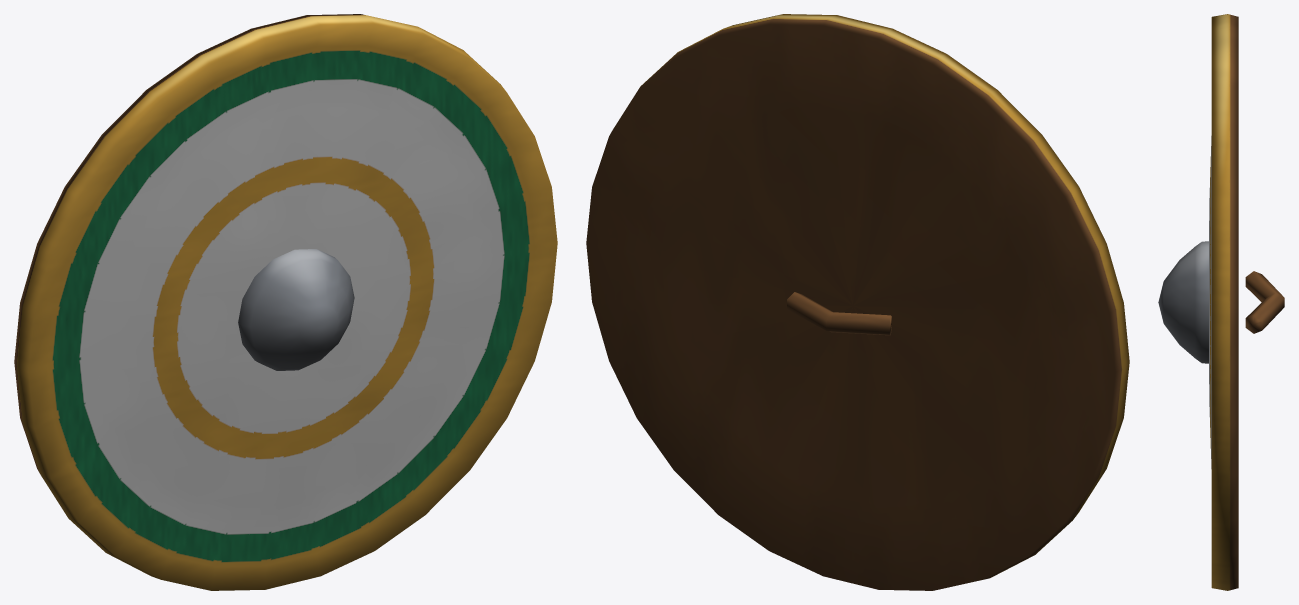
The model's file is chimalli.glb.
3 views of the same model, side by side, from view 1: azimuth 30°, elevation 25°; view 2: azimuth 150°, elevation 25°; view 3: azimuth 270°, elevation 25° (orthographic). The views are drawn at different scales.
Visible parts, largest first — view 1: chimalli; view 2: chimalli; view 3: chimalli.
Boxes of the visible parts, x1,y1,x2,y2 form: chimalli: [14, 14, 557, 590]; chimalli: [586, 14, 1129, 590]; chimalli: [1158, 14, 1284, 590].
Bounding box in the file's own units: 0.6666 × 0.6629 × 0.1454.
Materials: 1 (1 with a texture image).
